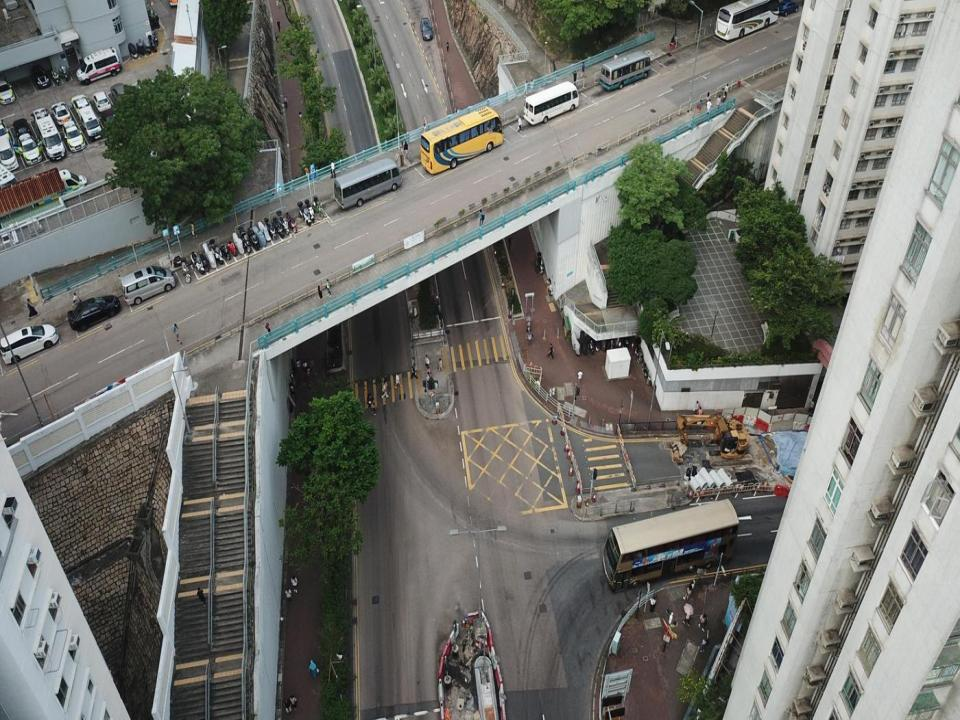bus: (603, 498, 738, 593), (421, 107, 503, 174), (334, 158, 404, 209), (714, 0, 778, 41), (524, 81, 578, 124), (598, 52, 651, 92)
car: (67, 294, 122, 332), (17, 132, 41, 166), (62, 120, 85, 152), (12, 118, 32, 146), (72, 91, 91, 120), (30, 65, 50, 90), (52, 101, 70, 127), (32, 107, 52, 130), (0, 78, 14, 107), (94, 90, 110, 114), (775, 0, 799, 16), (420, 16, 433, 40)
van: (0, 324, 59, 366), (120, 265, 177, 303), (0, 134, 19, 174)
